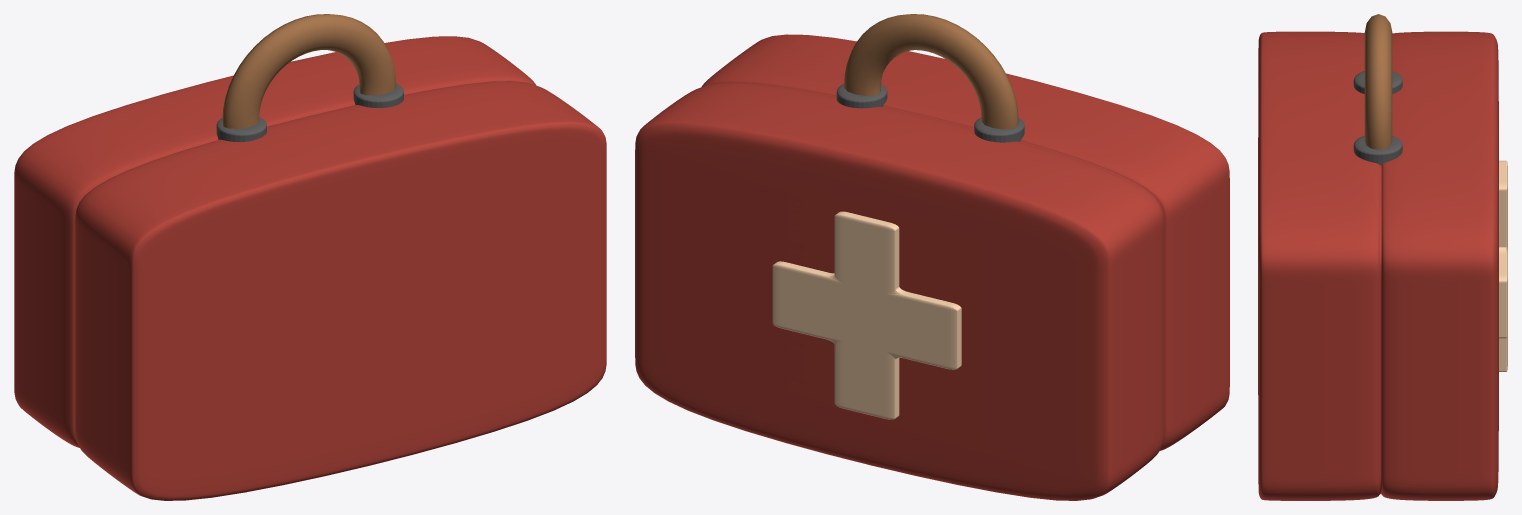
The model's file is MedKit.fbx.
3 renders of one model, left to right at view 1: azimuth 30°, elevation 25°; view 2: azimuth 150°, elevation 25°; view 3: azimuth 270°, elevation 25°, orthographic. The views are drawn at different scales.
Parts seen in each view (by area): view 1: Object_2; view 2: Object_2; view 3: Object_2.
Part boxes in pixels (x1,y1,x2,y2): Object_2: (14,14,606,500); Object_2: (635,14,1229,500); Object_2: (1258,14,1507,500).
Size of the model in its own units: 270 by 220 by 126.
